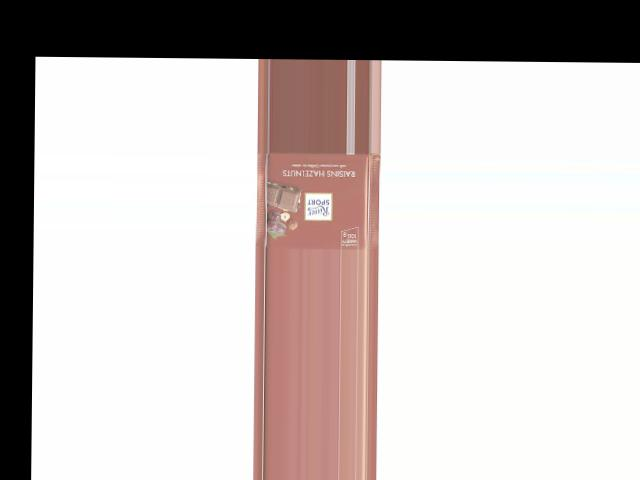chocolate: (253, 151, 380, 249)
